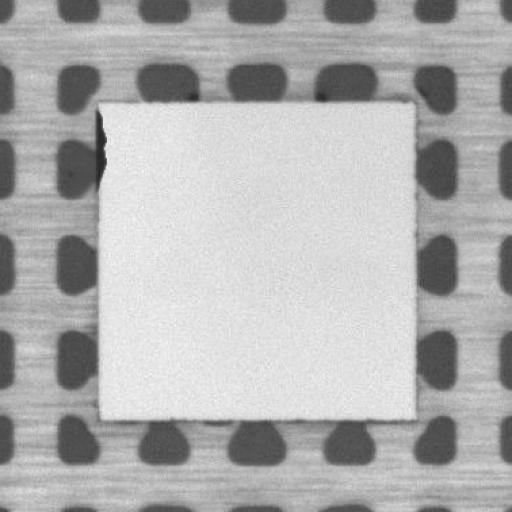DIE_BROKEN: (92, 101, 108, 192)
